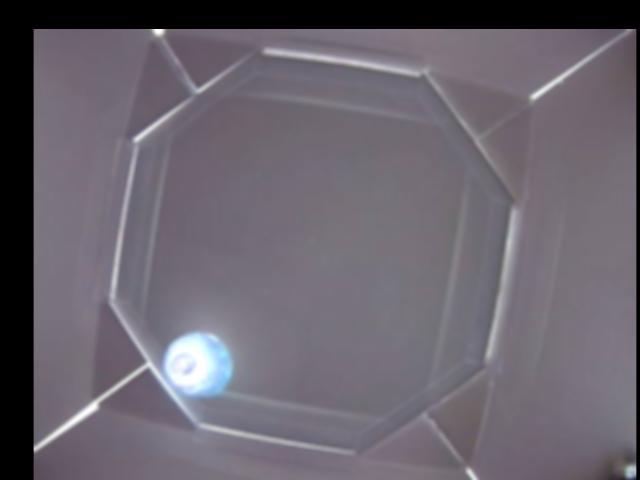Carrot: (164, 331, 231, 396)
